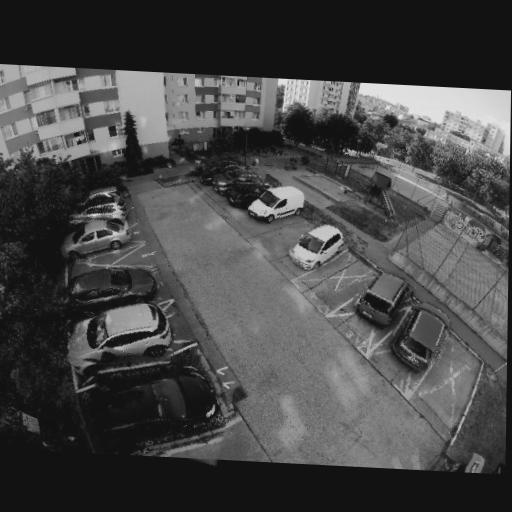busy: (88, 352, 233, 460), (70, 295, 178, 376), (66, 259, 160, 319), (391, 299, 453, 374), (350, 268, 415, 332), (288, 222, 350, 273), (64, 216, 131, 262), (251, 185, 309, 226), (71, 194, 128, 231), (213, 160, 265, 198), (228, 173, 274, 208), (74, 184, 129, 209), (198, 160, 237, 186), (452, 451, 492, 474)
free: (427, 356, 472, 406), (322, 263, 360, 296), (90, 251, 129, 270), (282, 219, 309, 242)
